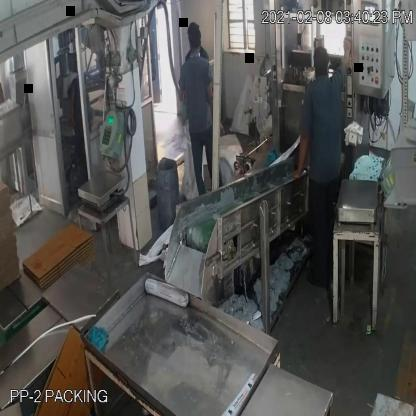no_glove: (290, 124, 311, 181), (337, 38, 353, 81)
